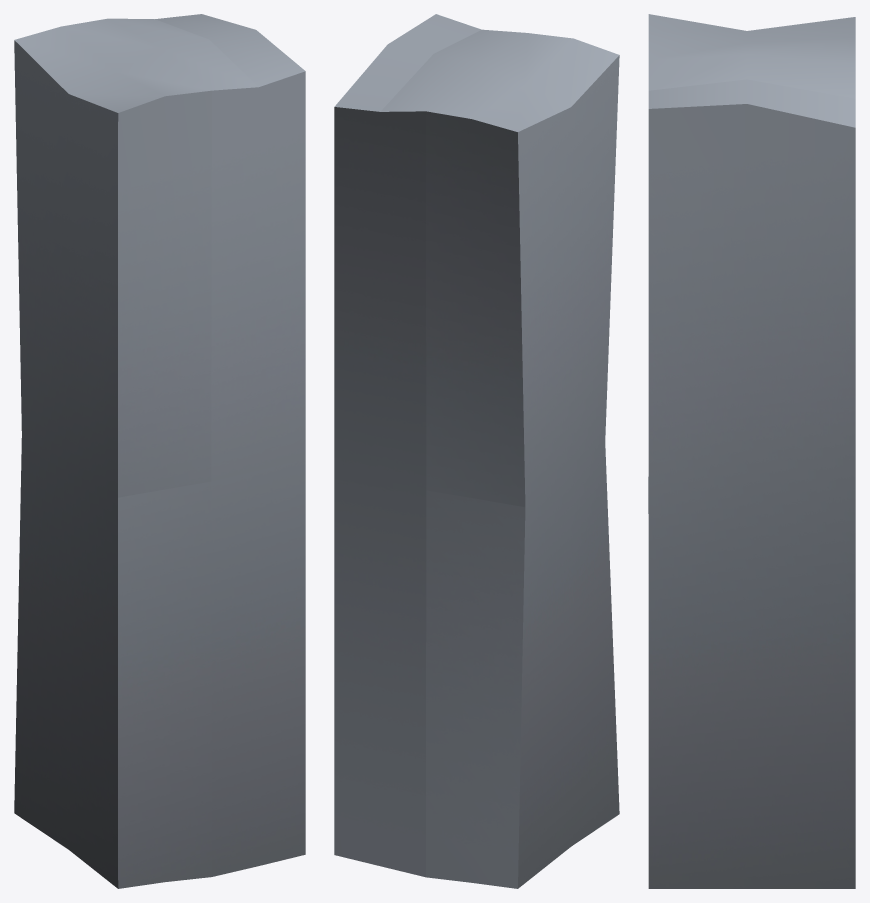
The model's file is Wall_Segement2.fbx.
3 views of the same model, side by side, from view 1: azimuth 30°, elevation 25°; view 2: azimuth 150°, elevation 25°; view 3: azimuth 270°, elevation 25° (orthographic). The views are drawn at different scales.
Visible parts, largest first — view 1: Wall_Segement2; view 2: Wall_Segement2; view 3: Wall_Segement2.
Part boxes in pixels (box(x1,y1,x2,y2)): Wall_Segement2: box(14, 14, 305, 888); Wall_Segement2: box(334, 14, 619, 888); Wall_Segement2: box(648, 14, 855, 888).
Bounding box in the file's own units: 0.9171 × 3.7 × 0.8803.
1 material, 1 textured.
